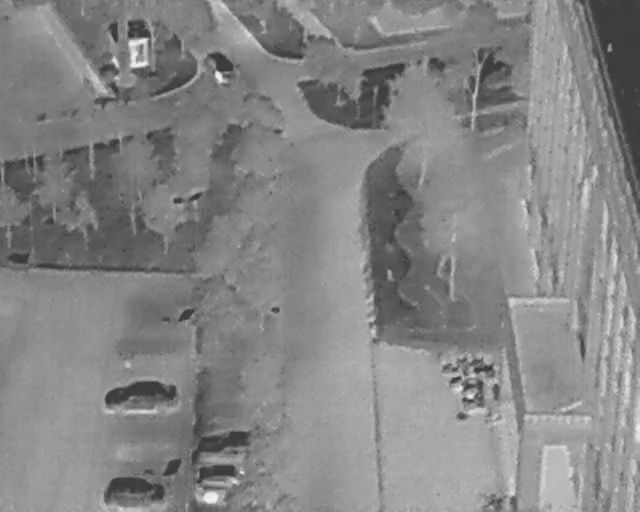Bicycle: (459, 391, 488, 411), (480, 491, 508, 511), (463, 354, 487, 373), (438, 358, 466, 373), (469, 361, 496, 376), (447, 373, 474, 388), (459, 377, 486, 392)
Car: (103, 379, 181, 414), (101, 474, 168, 511), (195, 461, 261, 493), (193, 429, 264, 457)
